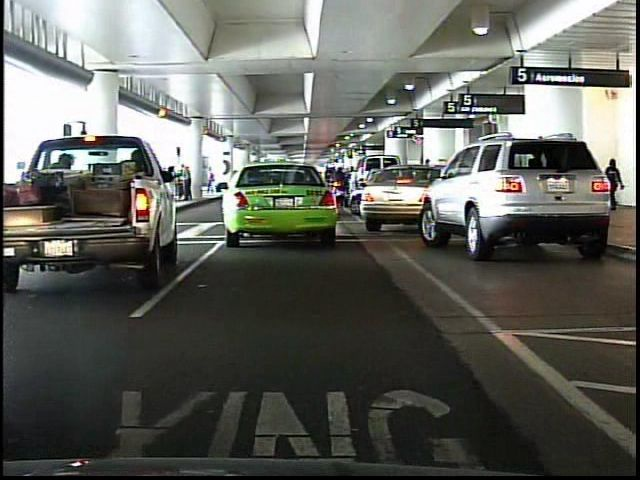person: (608, 157, 626, 205)
